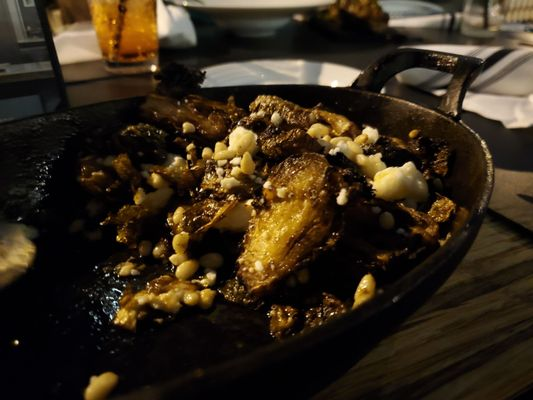pizza: (88, 0, 161, 73)
